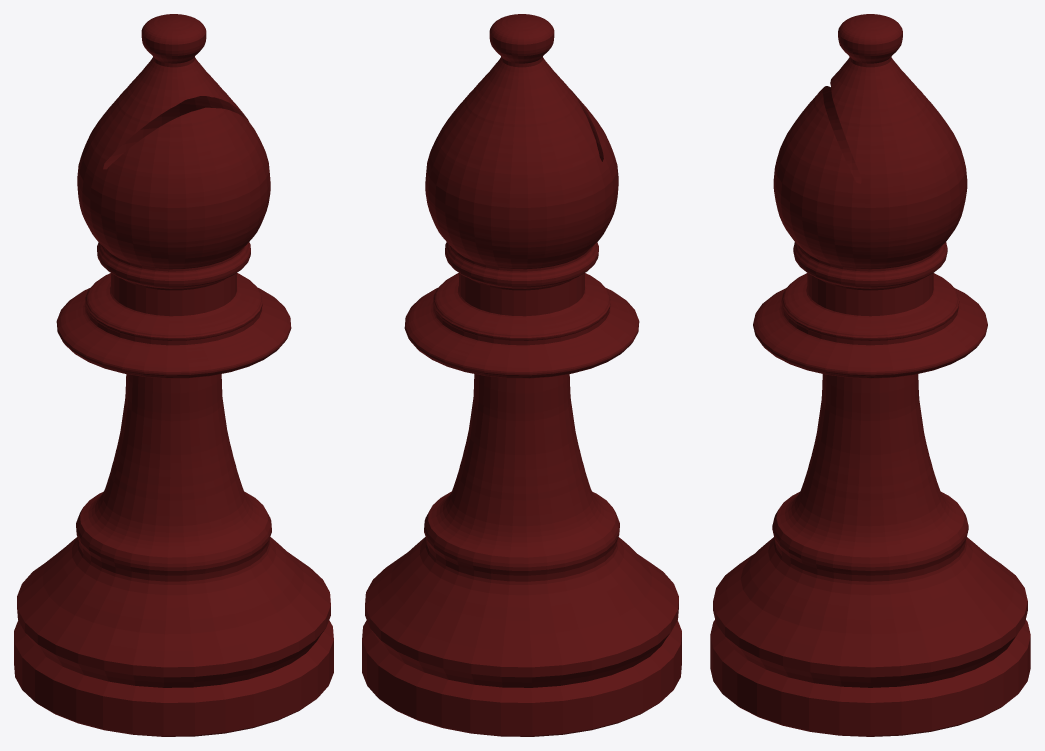
3 renders of one model, left to right at view 1: azimuth 30°, elevation 25°; view 2: azimuth 150°, elevation 25°; view 3: azimuth 270°, elevation 25°, orthographic.
Parts seen in each view (by area): view 1: Cylinder; view 2: Cylinder; view 3: Cylinder.
Part boxes in pixels (bbox=[...]): Cylinder: bbox=[14, 14, 333, 736]; Cylinder: bbox=[362, 14, 681, 736]; Cylinder: bbox=[710, 14, 1030, 736].
Bounding box in the file's own units: 0.5991 × 1.34 × 0.5991.
